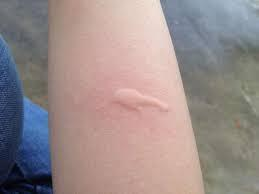Mosquito: (111, 85, 170, 114)
